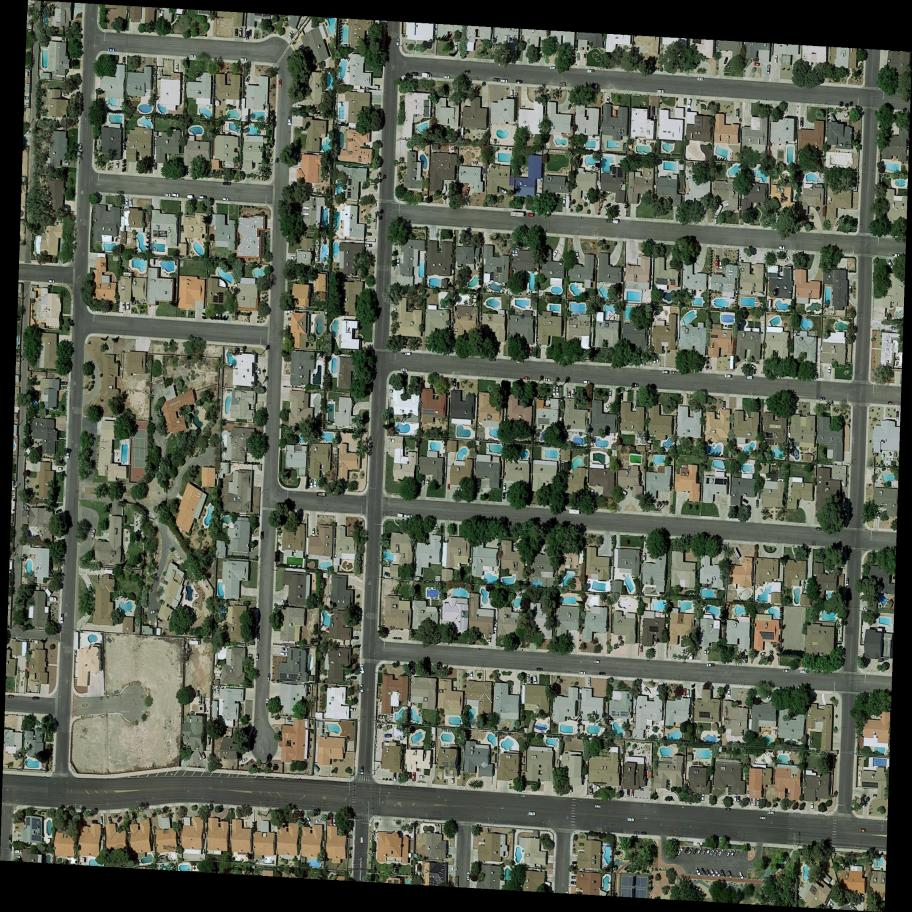large-vehicle: (731, 547, 743, 563), (509, 211, 525, 218), (382, 723, 393, 732), (569, 508, 581, 516), (421, 71, 431, 78)
ship: (642, 686, 653, 697)
small-vehicle: (395, 73, 408, 84), (716, 846, 726, 858), (886, 258, 895, 271), (675, 846, 685, 857), (430, 523, 440, 534), (688, 647, 695, 662), (826, 899, 836, 909), (551, 249, 560, 260), (464, 186, 472, 198), (683, 844, 692, 854), (741, 497, 751, 506), (604, 401, 613, 411), (619, 488, 629, 497), (704, 867, 712, 878), (730, 847, 738, 858), (799, 668, 810, 676), (686, 98, 694, 109), (492, 621, 498, 635), (839, 212, 848, 221), (512, 541, 521, 550), (391, 818, 400, 827), (783, 255, 792, 264), (726, 870, 734, 880), (725, 848, 733, 858), (692, 846, 700, 856), (286, 29, 294, 39), (603, 202, 613, 210), (65, 448, 71, 460), (714, 869, 722, 878), (699, 867, 707, 876), (705, 846, 713, 855), (687, 847, 695, 856), (701, 846, 709, 855), (116, 815, 124, 824), (240, 756, 249, 764), (313, 763, 321, 772), (589, 489, 595, 501), (244, 75, 251, 85), (694, 866, 701, 876), (696, 846, 703, 856), (723, 56, 730, 66), (680, 647, 690, 654), (308, 479, 315, 489), (305, 815, 312, 825), (566, 102, 573, 112), (90, 528, 96, 539), (700, 793, 706, 804), (638, 643, 644, 654), (575, 250, 581, 261), (712, 848, 720, 856), (749, 363, 757, 371), (516, 357, 524, 365), (500, 188, 508, 196), (150, 608, 159, 615), (55, 507, 64, 514), (709, 868, 716, 877), (719, 869, 726, 878), (738, 871, 745, 880), (626, 816, 635, 823), (527, 810, 536, 817), (425, 477, 432, 486), (200, 750, 207, 759), (605, 217, 614, 224), (810, 800, 816, 810), (532, 675, 538, 685), (777, 245, 787, 251), (745, 375, 755, 381), (848, 285, 854, 295), (360, 764, 365, 776), (708, 849, 716, 856), (579, 669, 587, 676), (289, 255, 297, 262), (890, 324, 898, 331), (315, 817, 323, 824), (443, 73, 451, 80), (523, 375, 531, 382), (297, 43, 305, 50), (526, 672, 531, 683), (679, 394, 684, 405), (359, 683, 364, 694), (396, 257, 401, 268), (256, 632, 261, 643), (206, 735, 211, 746), (555, 386, 560, 397), (562, 197, 567, 208), (223, 180, 232, 186), (280, 651, 289, 657), (598, 670, 607, 676), (630, 789, 636, 798), (593, 803, 602, 809), (696, 76, 705, 82), (891, 252, 900, 258), (724, 373, 733, 379), (404, 513, 413, 519), (492, 77, 501, 83), (736, 107, 740, 120), (126, 301, 131, 311), (266, 672, 271, 682), (466, 871, 471, 881), (714, 215, 719, 225), (766, 65, 771, 75), (860, 894, 865, 904), (487, 634, 492, 644), (8, 834, 13, 844), (608, 389, 613, 399), (583, 51, 588, 61), (56, 465, 63, 472), (834, 220, 841, 227), (404, 350, 411, 357), (239, 56, 247, 62), (163, 192, 171, 198), (171, 192, 179, 198), (107, 47, 115, 53), (661, 369, 669, 375), (396, 512, 404, 518), (365, 242, 373, 248), (365, 231, 373, 237), (411, 71, 419, 77), (515, 79, 523, 85), (121, 302, 126, 311), (88, 583, 93, 592), (108, 816, 113, 825), (587, 677, 592, 686), (589, 787, 594, 796), (706, 662, 715, 667), (722, 400, 727, 409), (719, 260, 724, 269), (313, 478, 318, 487), (450, 776, 455, 785), (652, 356, 657, 365), (529, 346, 534, 355), (619, 392, 624, 401), (502, 493, 507, 502), (642, 553, 647, 562), (60, 613, 64, 624), (129, 197, 133, 208), (626, 787, 630, 798), (800, 117, 804, 128), (288, 115, 292, 126), (7, 693, 14, 699), (187, 193, 194, 199), (782, 668, 789, 674), (753, 61, 760, 67), (818, 395, 825, 401), (887, 400, 894, 406), (594, 659, 601, 665), (385, 733, 392, 739), (247, 653, 254, 659), (446, 853, 453, 859), (451, 866, 458, 872), (657, 88, 664, 94), (527, 212, 534, 218), (266, 698, 270, 708), (153, 162, 158, 170), (767, 810, 775, 815), (734, 792, 738, 802), (727, 688, 731, 698), (285, 309, 293, 314), (175, 63, 179, 73), (312, 527, 316, 537), (755, 499, 759, 509), (412, 771, 416, 781), (582, 379, 590, 384), (543, 377, 551, 382), (565, 387, 569, 397), (553, 386, 557, 396), (503, 482, 507, 492), (587, 69, 595, 74), (500, 78, 508, 83), (576, 52, 581, 60), (115, 161, 119, 170), (257, 368, 261, 377), (260, 531, 264, 540), (245, 31, 249, 40), (248, 29, 252, 38), (278, 79, 282, 88), (122, 56, 126, 65), (757, 798, 761, 807), (256, 653, 260, 662), (571, 874, 577, 880), (683, 688, 687, 697), (651, 106, 655, 115), (704, 647, 708, 656), (828, 366, 832, 375), (896, 411, 900, 420), (350, 707, 356, 713), (392, 306, 398, 312), (196, 689, 200, 698), (8, 844, 12, 853), (333, 817, 337, 826), (393, 772, 397, 781), (398, 772, 402, 781), (408, 771, 412, 780), (418, 774, 424, 780), (388, 388, 394, 394), (571, 389, 575, 398), (515, 248, 519, 257), (396, 38, 400, 47), (117, 190, 124, 195), (281, 646, 288, 651), (190, 53, 197, 58), (234, 29, 239, 36), (222, 197, 229, 202), (633, 830, 640, 835), (759, 815, 766, 820), (536, 666, 543, 671), (570, 880, 577, 885), (571, 860, 578, 865), (815, 526, 822, 531), (378, 714, 385, 719), (349, 679, 354, 686), (280, 599, 287, 604), (352, 635, 359, 640), (15, 849, 22, 854), (633, 382, 640, 387), (464, 70, 471, 75), (549, 65, 556, 70), (180, 225, 184, 233), (32, 696, 40, 700), (122, 199, 126, 207), (125, 199, 129, 207), (239, 28, 243, 36), (199, 195, 207, 199), (858, 829, 866, 833), (530, 676, 534, 684), (470, 671, 474, 679), (774, 55, 778, 63), (452, 380, 456, 388), (360, 836, 364, 844), (443, 184, 447, 192), (656, 355, 660, 363), (456, 381, 460, 389), (454, 44, 458, 52), (510, 89, 514, 97), (23, 95, 29, 100), (641, 830, 647, 835), (670, 370, 676, 375), (351, 675, 357, 680), (388, 438, 394, 443), (401, 367, 407, 372), (329, 815, 332, 825), (512, 248, 515, 258), (48, 279, 55, 283), (686, 690, 690, 697), (447, 483, 451, 490), (79, 143, 82, 152), (738, 795, 741, 804), (846, 577, 849, 586), (361, 664, 364, 673), (568, 390, 571, 399), (92, 820, 98, 824), (63, 161, 69, 165), (863, 606, 869, 610), (16, 855, 22, 859), (607, 96, 610, 104)
